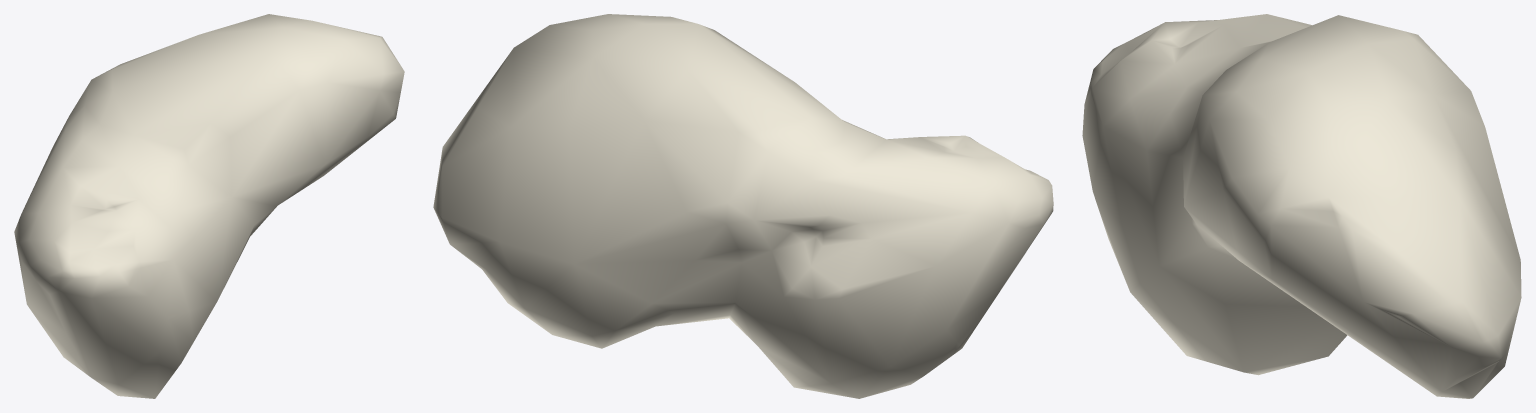
The picture shows the model from 3 angles, left to right: view 1: azimuth 30°, elevation 25°; view 2: azimuth 150°, elevation 25°; view 3: azimuth 270°, elevation 25°; orthographic projection. The views are drawn at different scales.
Visible parts, largest first — view 1: ZA_557649a62d5eb1a6; view 2: ZA_557649a62d5eb1a6; view 3: ZA_557649a62d5eb1a6.
Boxes of the visible parts, x1,y1,x2,y2 form: ZA_557649a62d5eb1a6: [14, 14, 404, 398]; ZA_557649a62d5eb1a6: [433, 14, 1053, 398]; ZA_557649a62d5eb1a6: [1082, 14, 1521, 398].
Size of the model in its own units: 0.0246 by 0.0162 by 0.0159.
